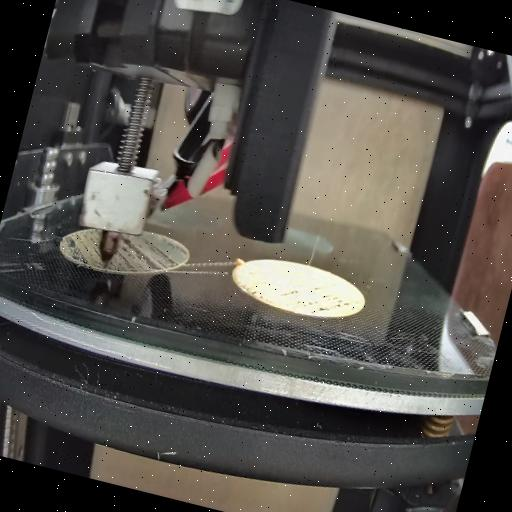under_extrusion: (115, 236, 187, 282), (62, 226, 98, 264)
